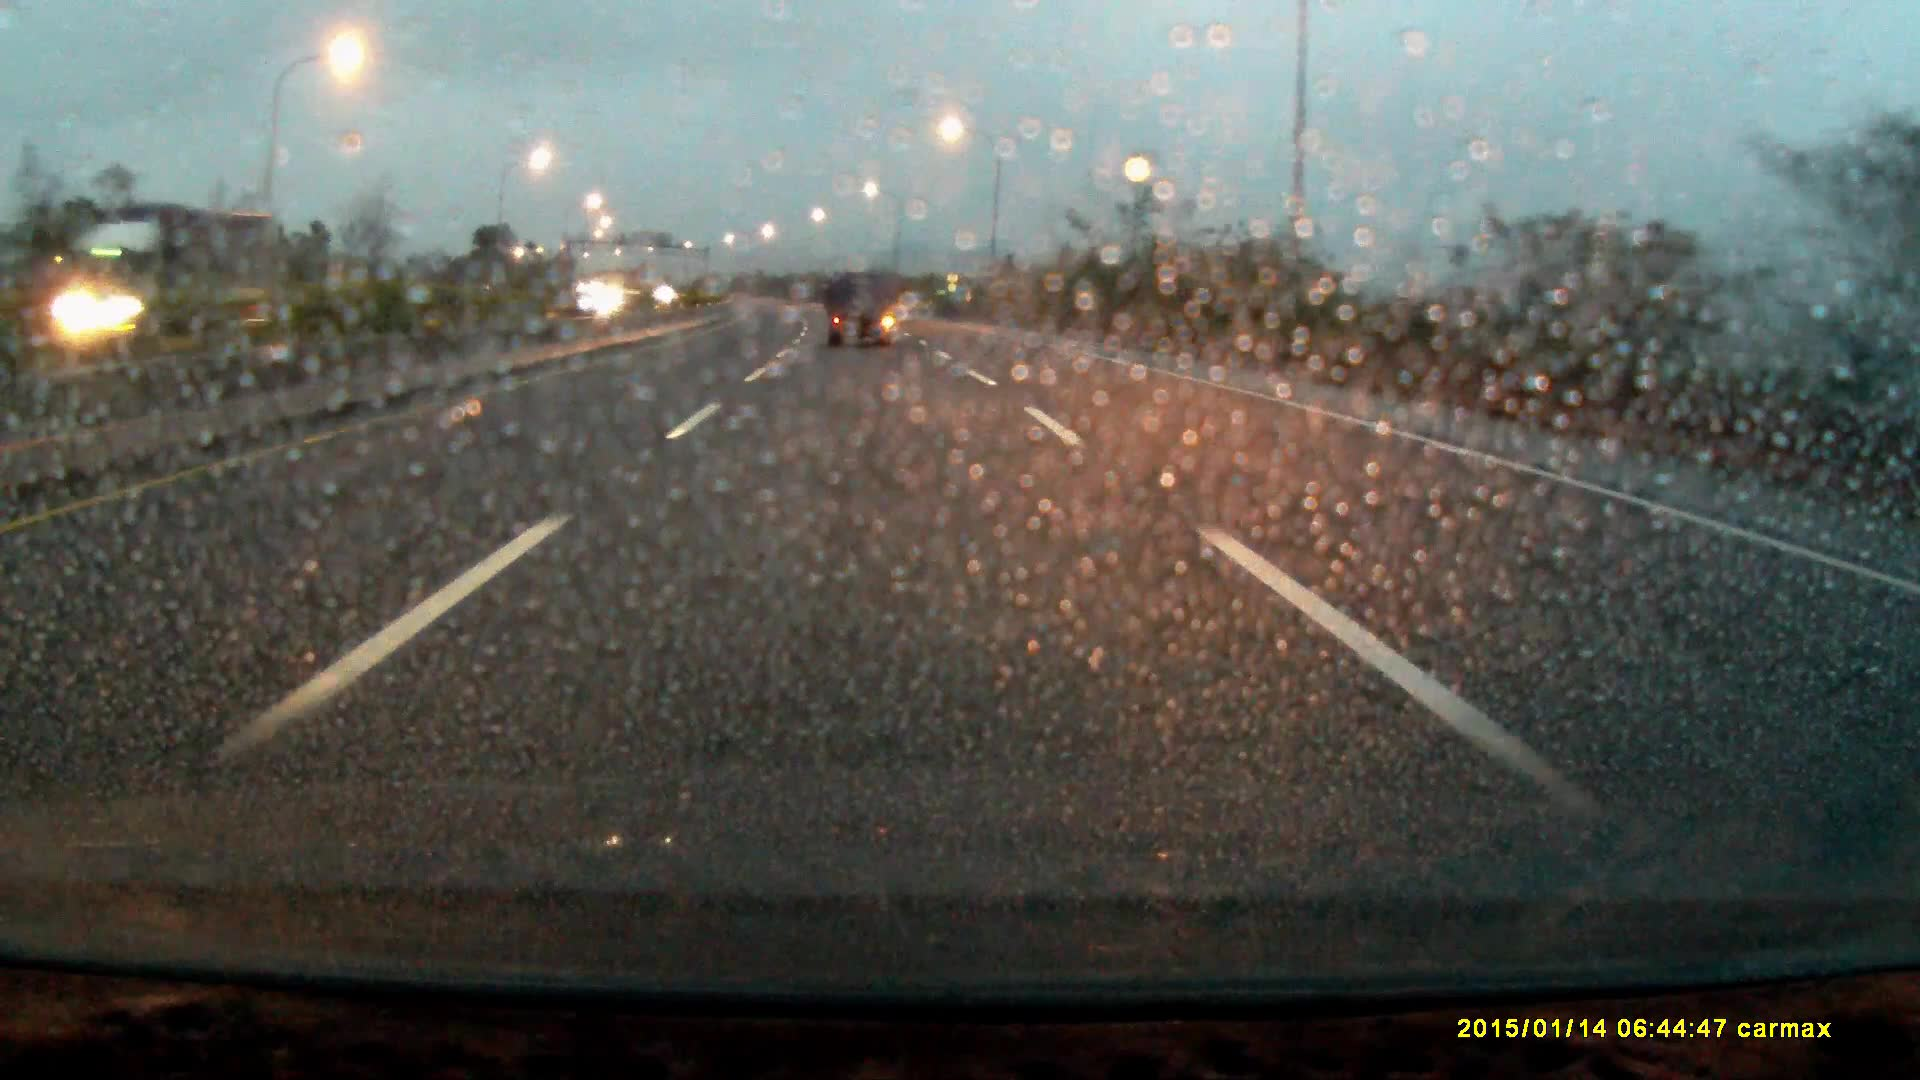vehicle: (59, 211, 290, 386), (825, 277, 899, 349), (593, 291, 636, 314)
